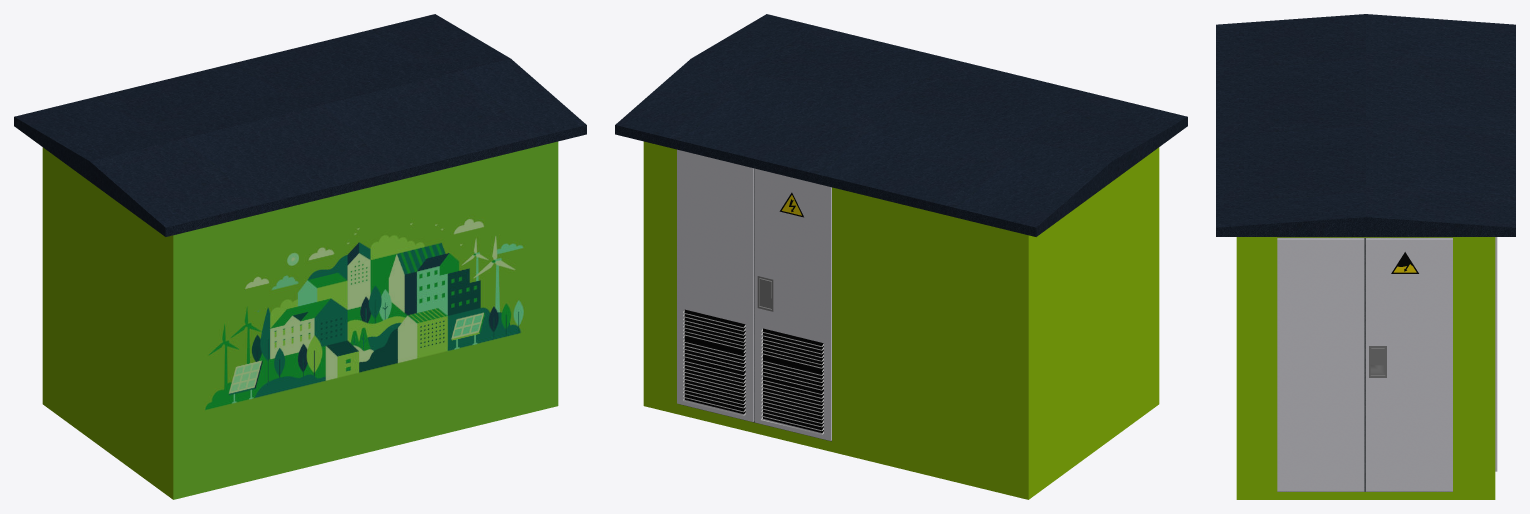
The model's file is asset.gltf.
3 views of the same model, side by side, from view 1: azimuth 30°, elevation 25°; view 2: azimuth 150°, elevation 25°; view 3: azimuth 270°, elevation 25° (orthographic).
Visible parts, largest first — view 1: Mesh3 Group1 Model; view 2: Mesh3 Group1 Model; view 3: Mesh3 Group1 Model.
Part boxes in pixels (x1=…): Mesh3 Group1 Model: x1=14, y1=14, x2=586, y2=499; Mesh3 Group1 Model: x1=615, y1=14, x2=1187, y2=499; Mesh3 Group1 Model: x1=1216, y1=14, x2=1515, y2=499.
Size of the model in its own units: 4650 by 3114 by 2900.
128 materials, 17 textured.
